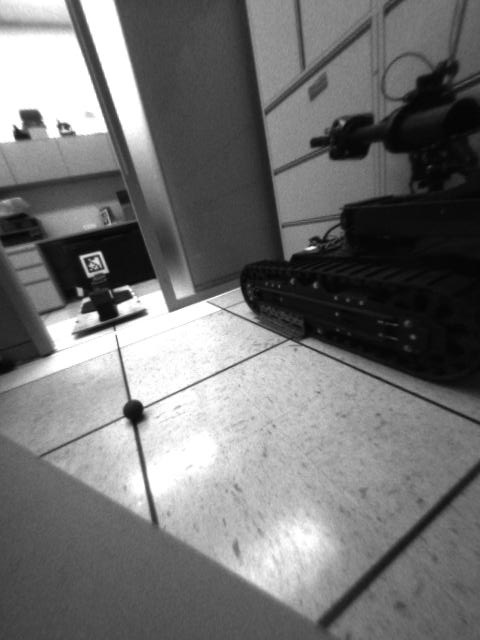dogtoy: (114, 393, 154, 432)
